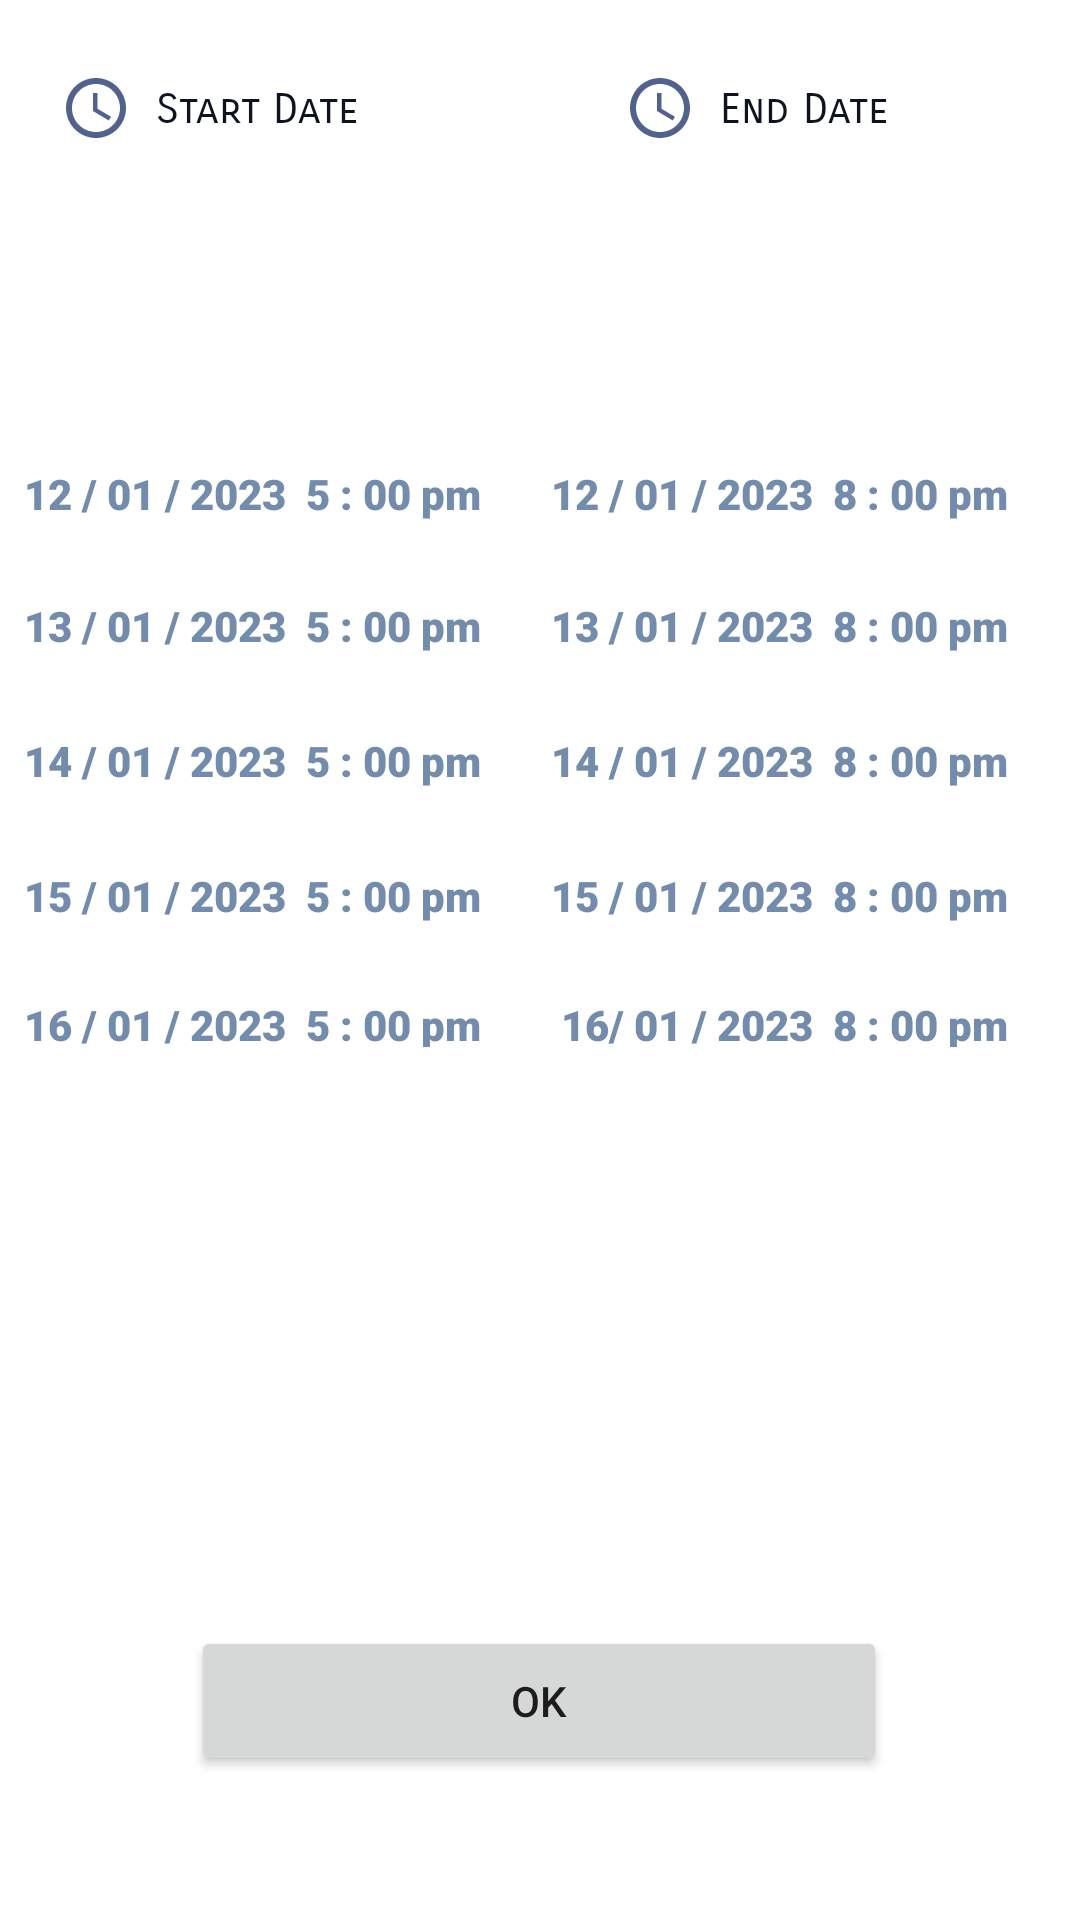

Screen size 1080px×1920px. Icon name, then its box in pixels as Rect(x1, y1, x2, y2):
access time: Rect(66, 78, 126, 138), Rect(630, 78, 690, 138)
